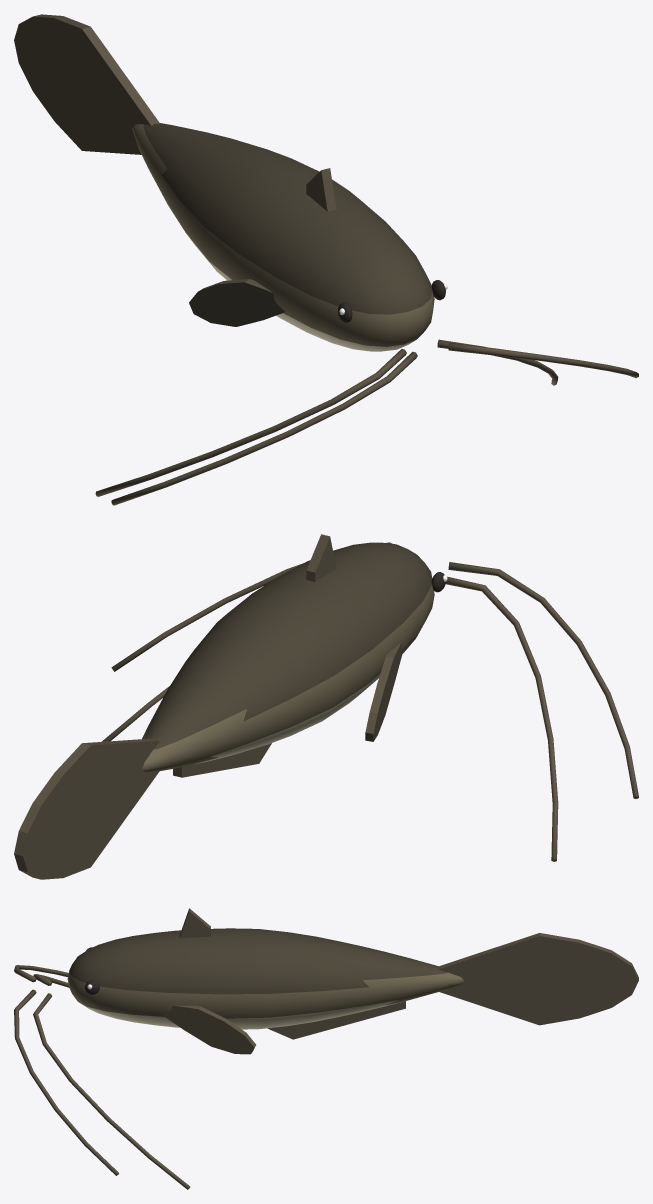
Rendered from fish-catfish.glb.
3 renders of one model, top to bottom at view 1: azimuth 30°, elevation 25°; view 2: azimuth 150°, elevation 25°; view 3: azimuth 270°, elevation 25°, orthographic. The views are drawn at different scales.
Parts seen in each view (by area): view 1: fish; view 2: fish; view 3: fish.
Part boxes in pixels (x1,y1,x2,y2): fish: (14,14,638,505); fish: (14,534,638,879); fish: (14,908,638,1189).
Size of the model in its own units: 0.3533 by 0.1739 by 0.4953.
